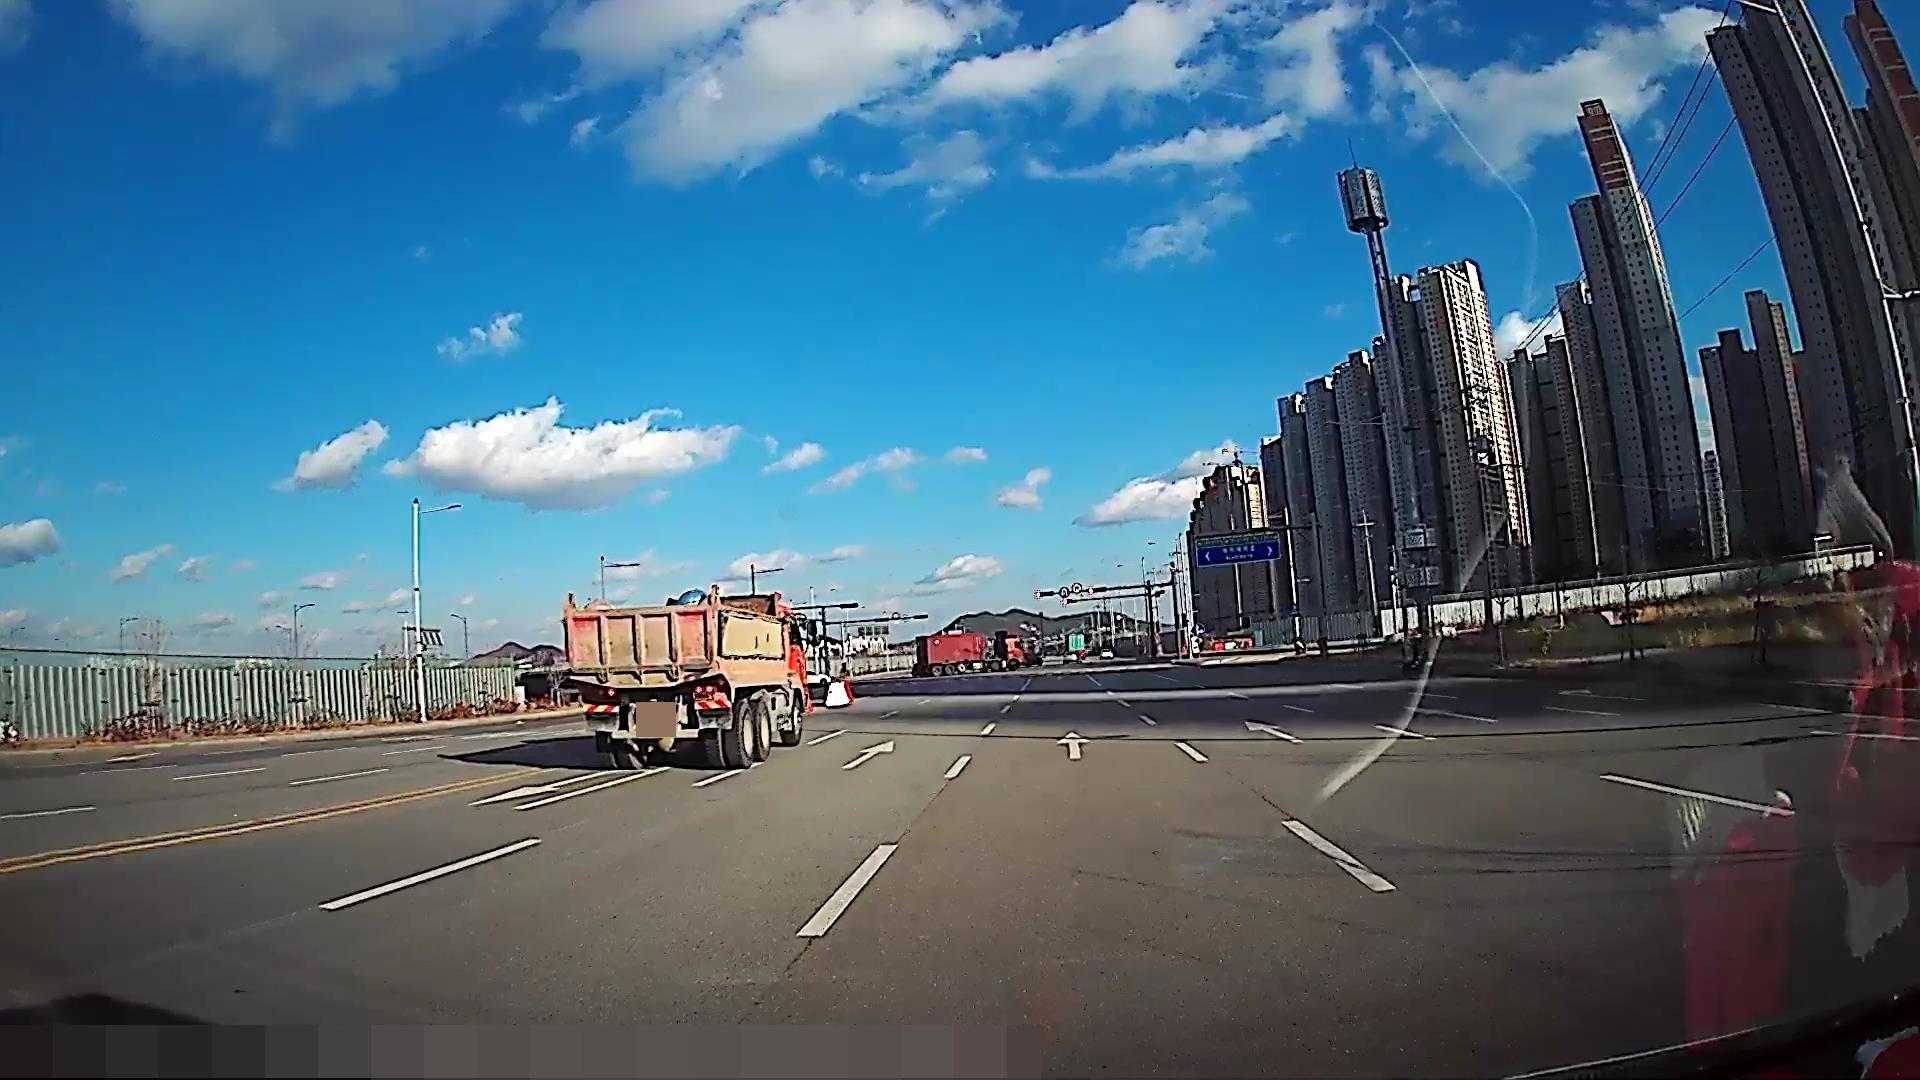불법차량: (559, 584, 818, 771)
